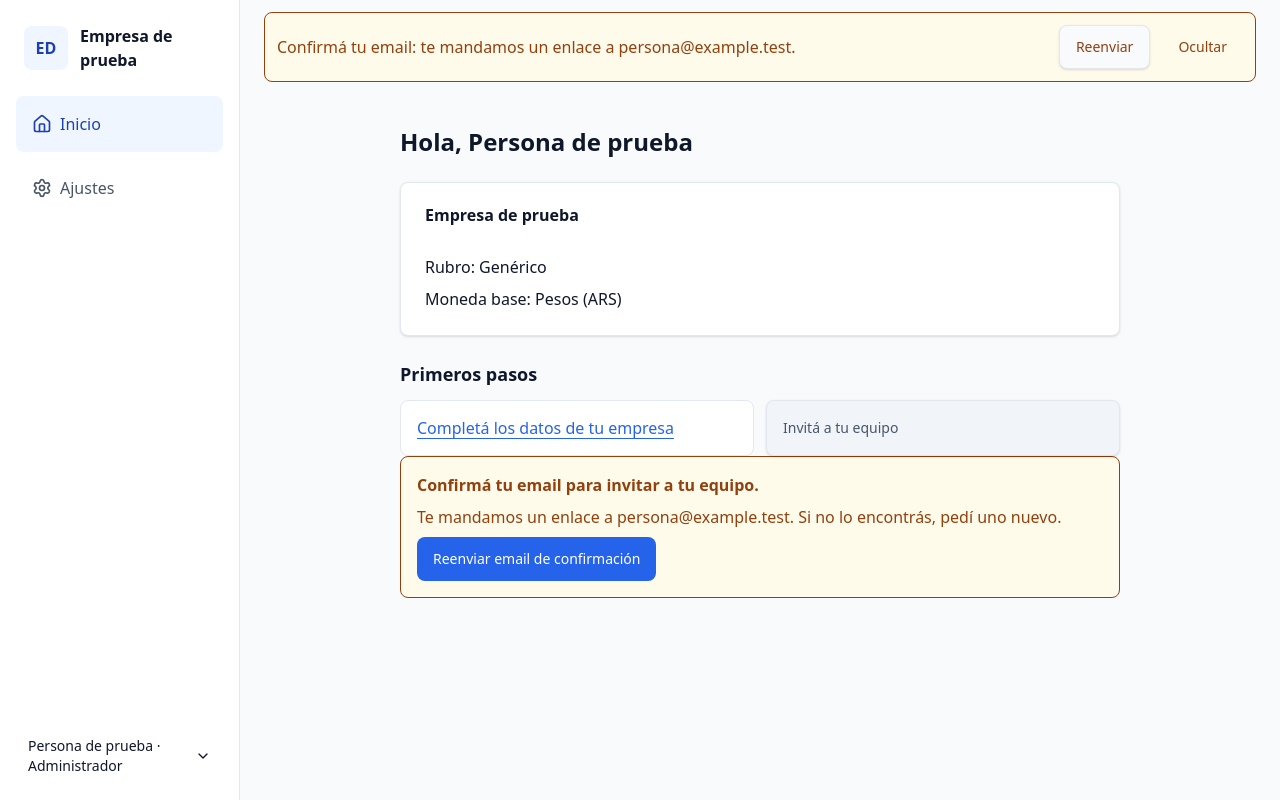
it: application shell › shows named navigation and administrator settings
Expected: the link "Inicio" is shown, [16,96,223,152]
Click the link "Ajustes" at [73, 188], box [32,177,114,199]
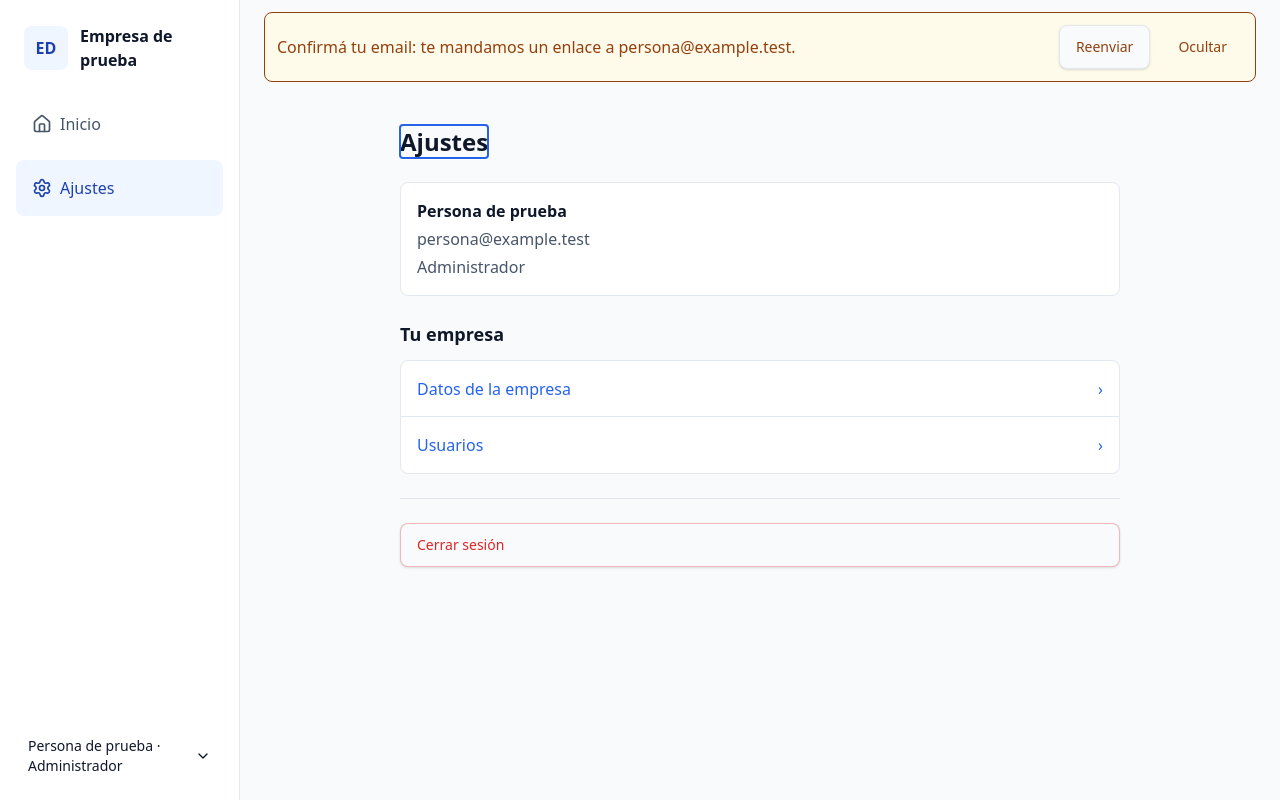
Now the heading "Ajustes" is shown, box [400,126,488,158]
Now the text "Persona de prueba" is shown, box [417,200,567,222]
Now the text "Administrador" is shown, box [417,256,525,278]
